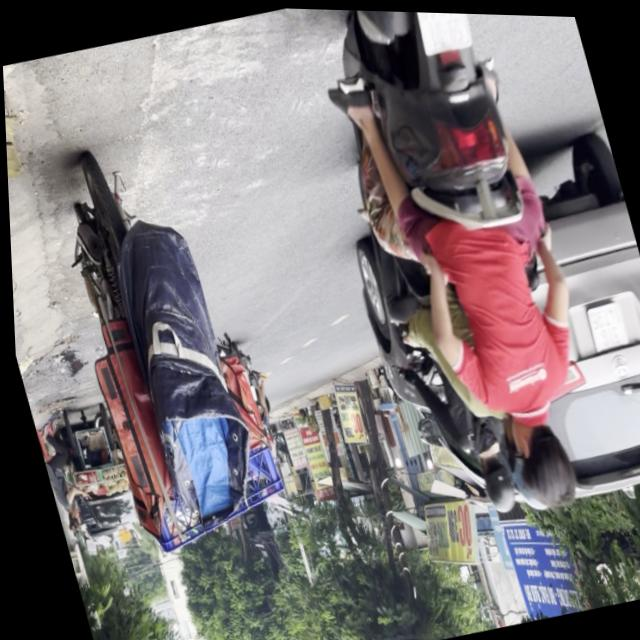helmet: (491, 411, 543, 510), (472, 450, 519, 515)
licenseplate: (299, 7, 626, 532)
motorcyclist: (500, 400, 581, 510)
nohelmet: (411, 10, 477, 56)
